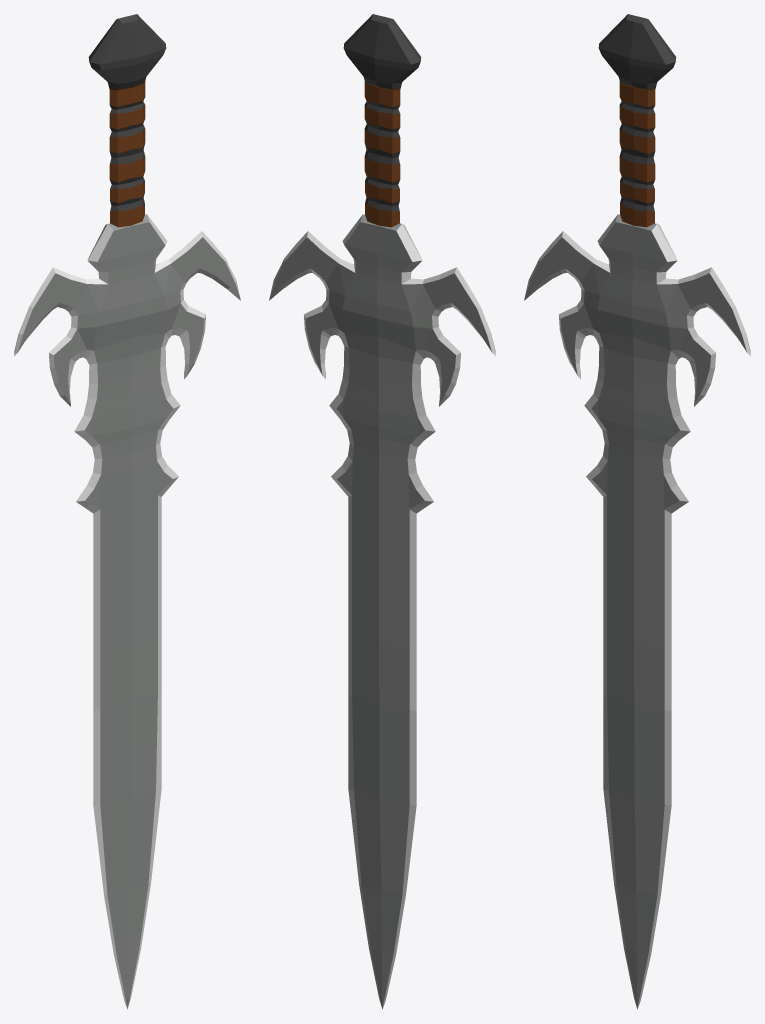
Rendered from sword_lowpoly.fbx.
The picture shows the model from 3 angles, left to right: view 1: azimuth 30°, elevation 25°; view 2: azimuth 150°, elevation 25°; view 3: azimuth 330°, elevation 25°; orthographic projection.
Visible parts, largest first — view 1: Sword; view 2: Sword; view 3: Sword.
Part boxes in pixels (bbox=[...]): Sword: bbox=[14, 14, 240, 1009]; Sword: bbox=[269, 14, 495, 1009]; Sword: bbox=[524, 14, 750, 1009].
Size of the model in its own units: 79.47 by 333 by 9.78.
